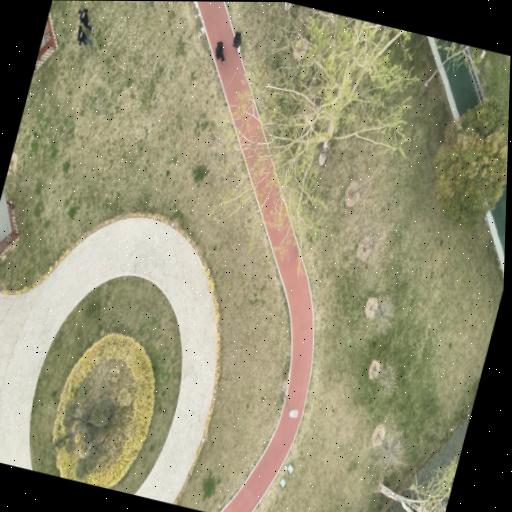person: (78, 8, 93, 31), (76, 25, 92, 45), (215, 41, 223, 62), (232, 31, 241, 49)
